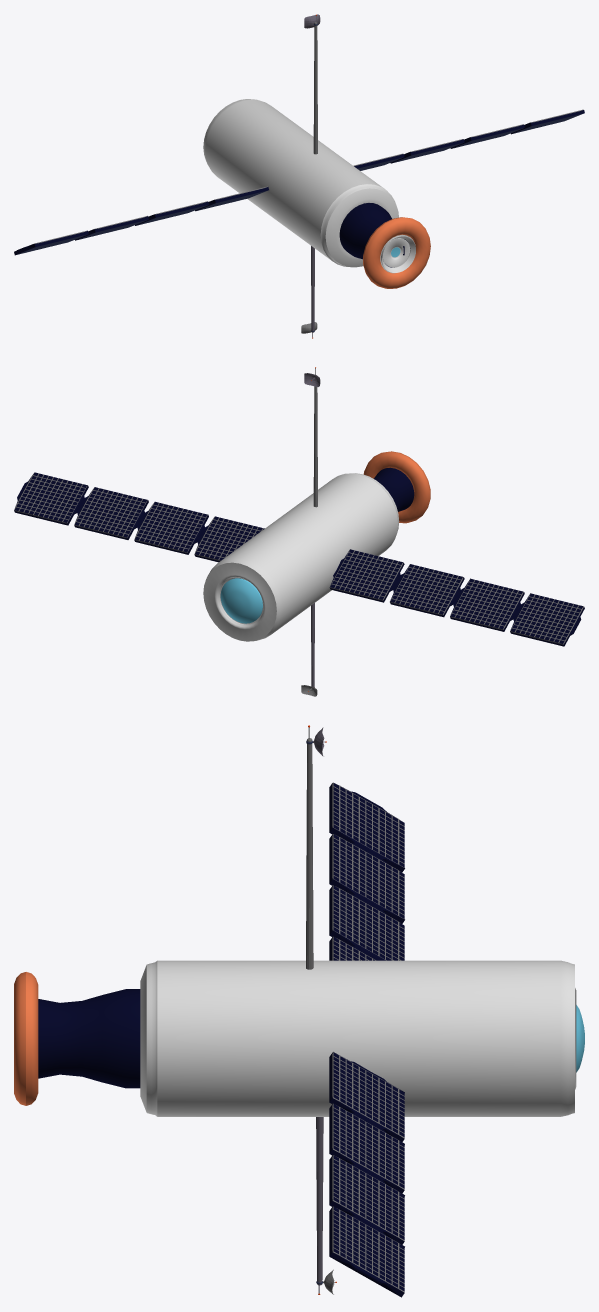
The model's file is HUBBLE.glb.
3 views of the same model, one above another, from view 1: azimuth 30°, elevation 25°; view 2: azimuth 150°, elevation 25°; view 3: azimuth 270°, elevation 25° (orthographic). The views are drawn at different scales.
Parts seen in each view (by area): view 1: pod, solar panel, solar panel.001, Cylinder.001; view 2: pod, solar panel, solar panel.001, Cylinder.001; view 3: pod, solar panel.001, solar panel, Cylinder.001, Cylinder.003.
Part boxes in pixels (x1=…): pod: x1=203, y1=99, x2=430, y2=288; solar panel: x1=14, y1=186, x2=268, y2=255; solar panel.001: x1=353, y1=109, x2=584, y2=170; Cylinder.001: x1=313, y1=14, x2=317, y2=154; pod: x1=203, y1=451, x2=430, y2=641; solar panel: x1=329, y1=549, x2=584, y2=646; solar panel.001: x1=14, y1=472, x2=264, y2=562; Cylinder.001: x1=313, y1=367, x2=317, y2=507; pod: x1=14, y1=960, x2=584, y2=1116; solar panel.001: x1=329, y1=1052, x2=404, y2=1297; solar panel: x1=329, y1=782, x2=404, y2=960; Cylinder.001: x1=306, y1=725, x2=313, y2=969; Cylinder.003: x1=316, y1=1117, x2=323, y2=1294.
Bounding box in the file's own units: 55.91 × 31.28 × 28.38.
